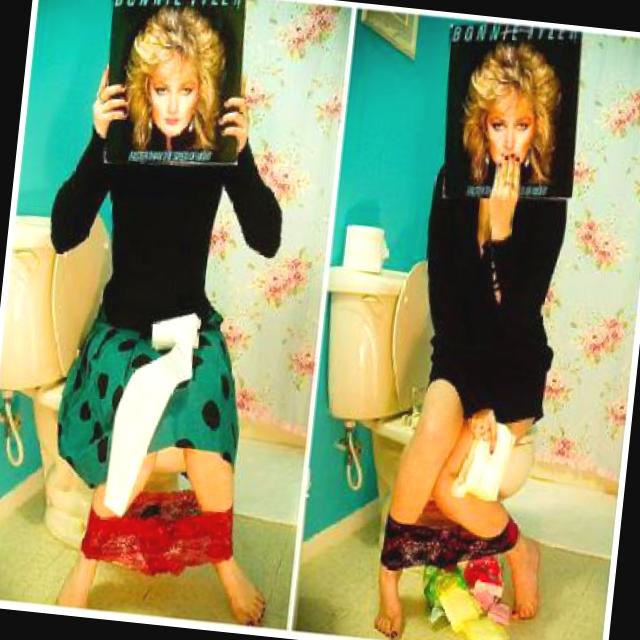Person: (8, 58, 322, 624), (370, 139, 585, 640)
